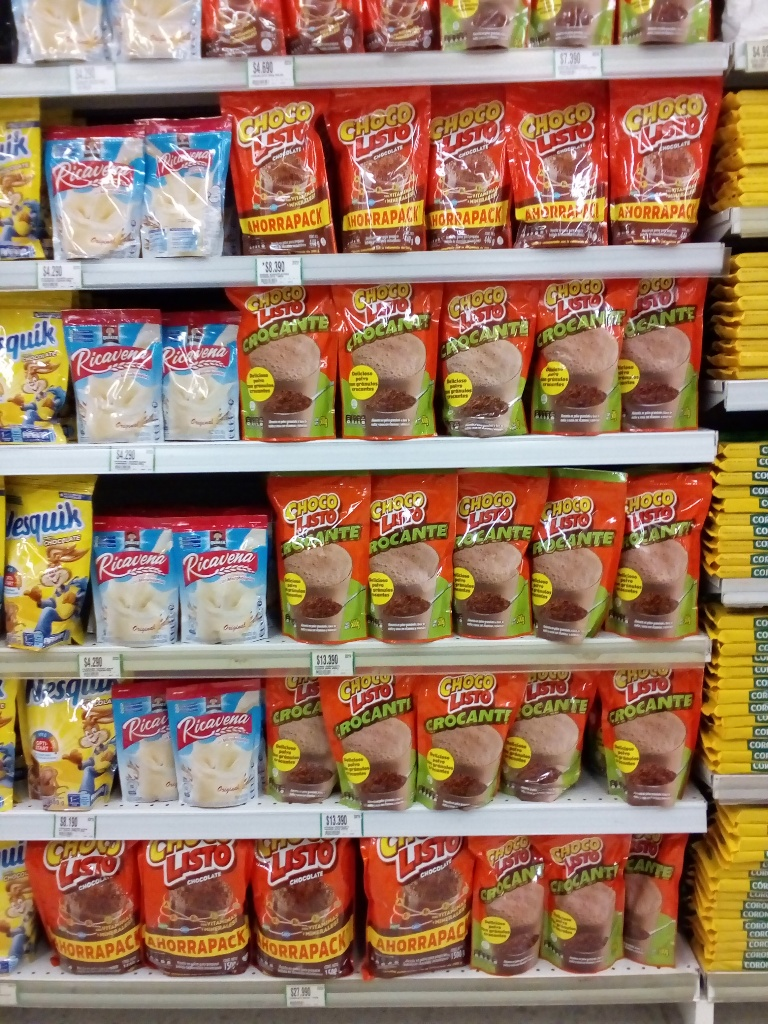COL0170102DYP50000: (629, 831, 704, 972)
COL0170103DYP1,500: (21, 836, 145, 976)
COL0170103DYP44000: (222, 94, 336, 255)
COL0170303DYP20000: (0, 103, 49, 259)
